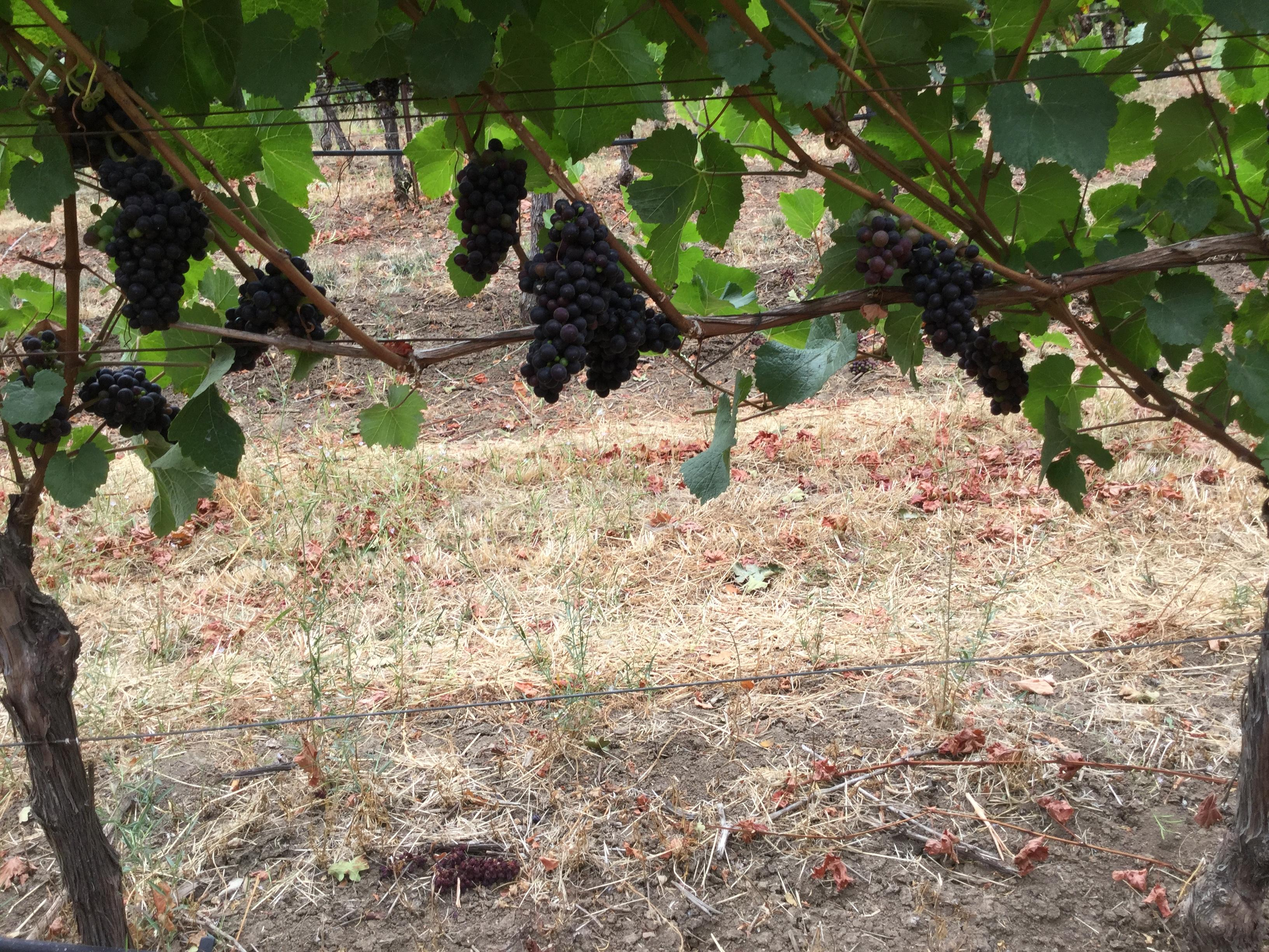leaf: (535, 0, 663, 159), (628, 125, 745, 280), (986, 53, 1117, 177), (122, 0, 241, 112), (681, 371, 752, 501), (754, 317, 856, 405), (1039, 397, 1114, 511), (237, 9, 322, 107), (407, 6, 494, 97), (490, 18, 555, 133), (169, 385, 245, 477), (255, 110, 324, 206), (9, 123, 77, 220), (174, 104, 263, 178), (149, 444, 216, 537), (1023, 354, 1102, 431), (1142, 273, 1225, 345), (1150, 97, 1215, 185), (673, 252, 759, 316), (1016, 162, 1080, 243), (404, 120, 465, 199), (334, 21, 412, 81), (58, 0, 148, 50), (253, 183, 314, 255), (358, 384, 425, 449), (770, 45, 839, 107), (706, 17, 767, 87), (44, 442, 108, 508), (1155, 176, 1219, 234), (808, 229, 863, 296), (160, 327, 215, 394), (0, 369, 65, 424), (1105, 101, 1156, 167), (883, 304, 923, 386), (1225, 343, 1268, 418), (322, 0, 378, 53), (1111, 312, 1160, 368), (760, 0, 815, 48), (989, 0, 1040, 49), (191, 341, 234, 398), (778, 187, 825, 238), (463, 0, 536, 32), (941, 35, 995, 77), (446, 246, 490, 296), (446, 248, 490, 298), (1203, 0, 1268, 32), (260, 0, 327, 29), (1094, 228, 1147, 261), (197, 268, 237, 311), (284, 350, 329, 382), (1040, 0, 1078, 32), (180, 304, 223, 326), (789, 0, 817, 24), (448, 203, 462, 240), (243, 0, 257, 22), (322, 327, 338, 340), (255, 100, 269, 107), (681, 254, 687, 262), (530, 162, 536, 169), (233, 287, 235, 295), (326, 33, 329, 37), (183, 317, 189, 319), (695, 249, 699, 252), (1108, 321, 1110, 324), (530, 188, 533, 190), (219, 272, 224, 273), (147, 335, 149, 337), (218, 470, 222, 471), (213, 364, 214, 366), (498, 87, 500, 88), (178, 417, 178, 418), (198, 322, 208, 322), (225, 474, 234, 474), (208, 467, 210, 467), (204, 464, 205, 464), (1077, 265, 1077, 266)
